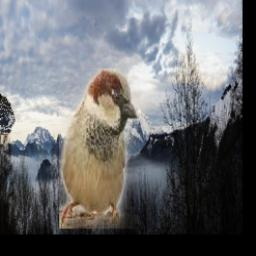Sparrow: (58, 68, 138, 229)
Woodpecker: (0, 90, 16, 136)
